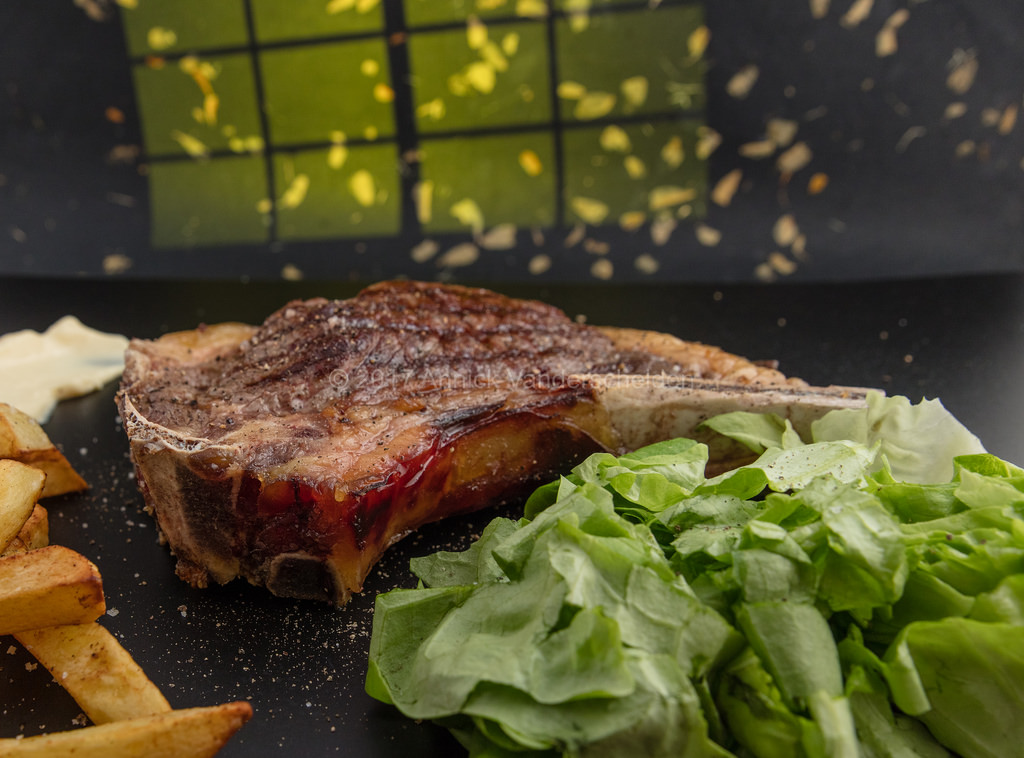chopped lettuce: (578, 522, 986, 750)
